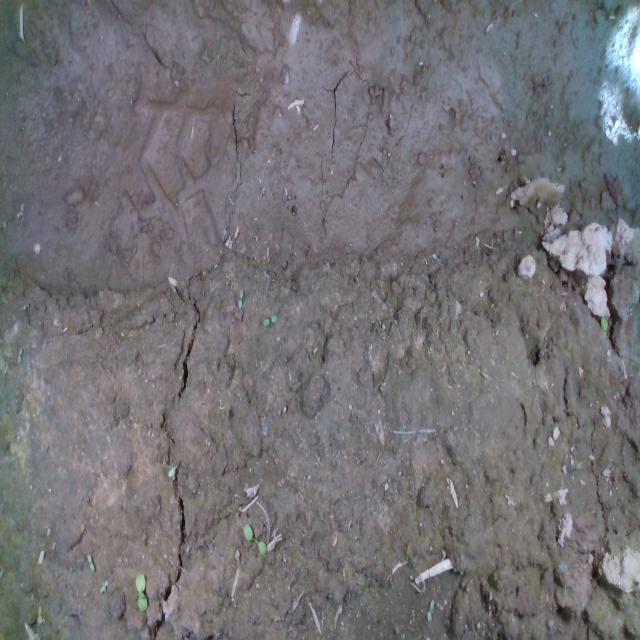weed: (260, 308, 288, 332), (227, 287, 249, 312), (84, 548, 102, 575), (100, 578, 110, 594)
